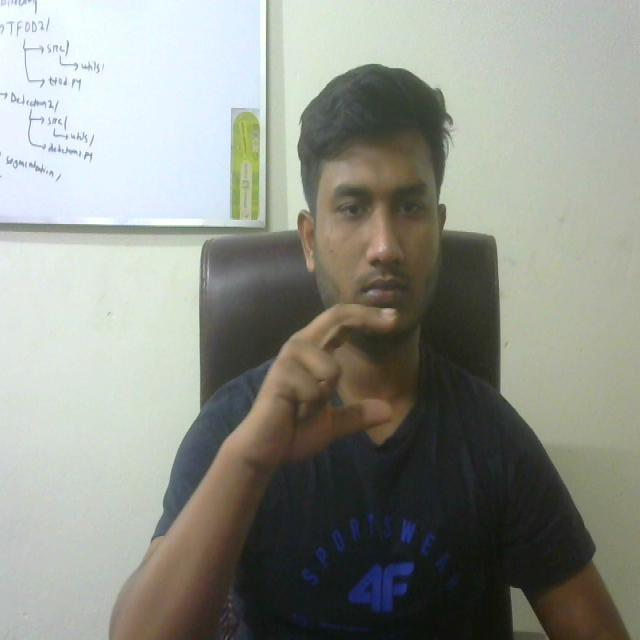No: (231, 291, 413, 475)
